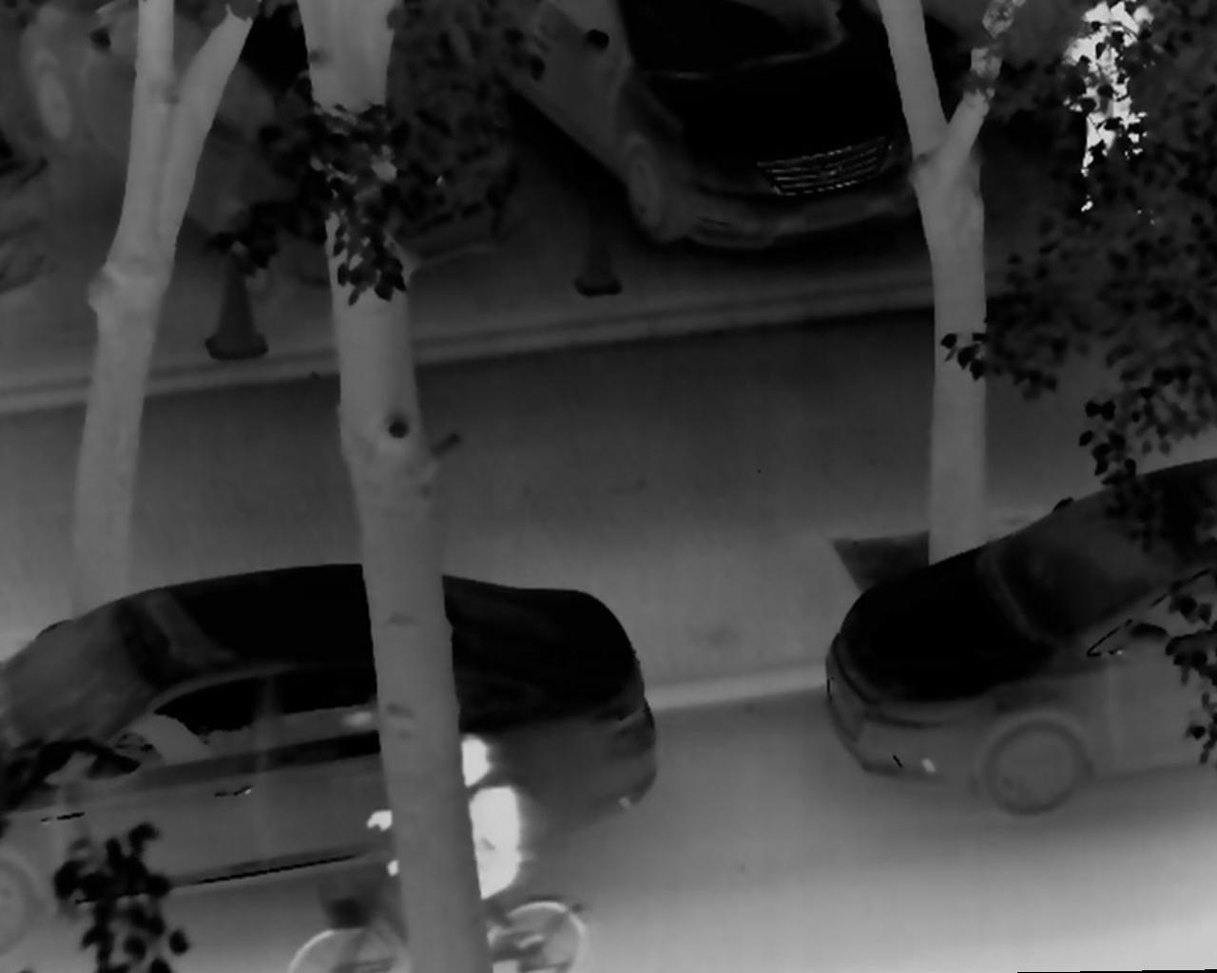person: (368, 712, 531, 921)
